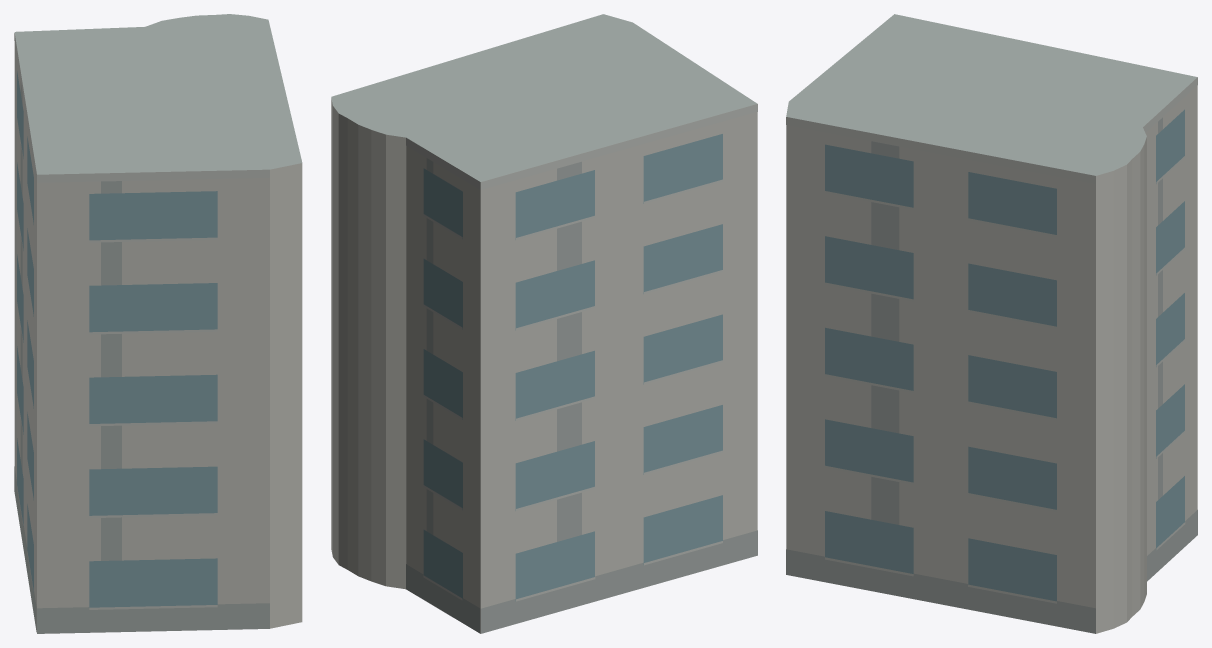
File: survey-upis-32970287.glb
3 renders of one model, left to right at view 1: azimuth 30°, elevation 25°; view 2: azimuth 150°, elevation 25°; view 3: azimuth 270°, elevation 25°, orthographic.
Visible parts, largest first — view 1: survey-upis-32970287.tmp; view 2: survey-upis-32970287.tmp; view 3: survey-upis-32970287.tmp.
Part boxes in pixels (x1=…): survey-upis-32970287.tmp: x1=14, y1=14, x2=302, y2=633; survey-upis-32970287.tmp: x1=331, y1=14, x2=757, y2=633; survey-upis-32970287.tmp: x1=786, y1=14, x2=1197, y2=633.
Size of the model in its own units: 10.4 by 13.7 by 11.17.
